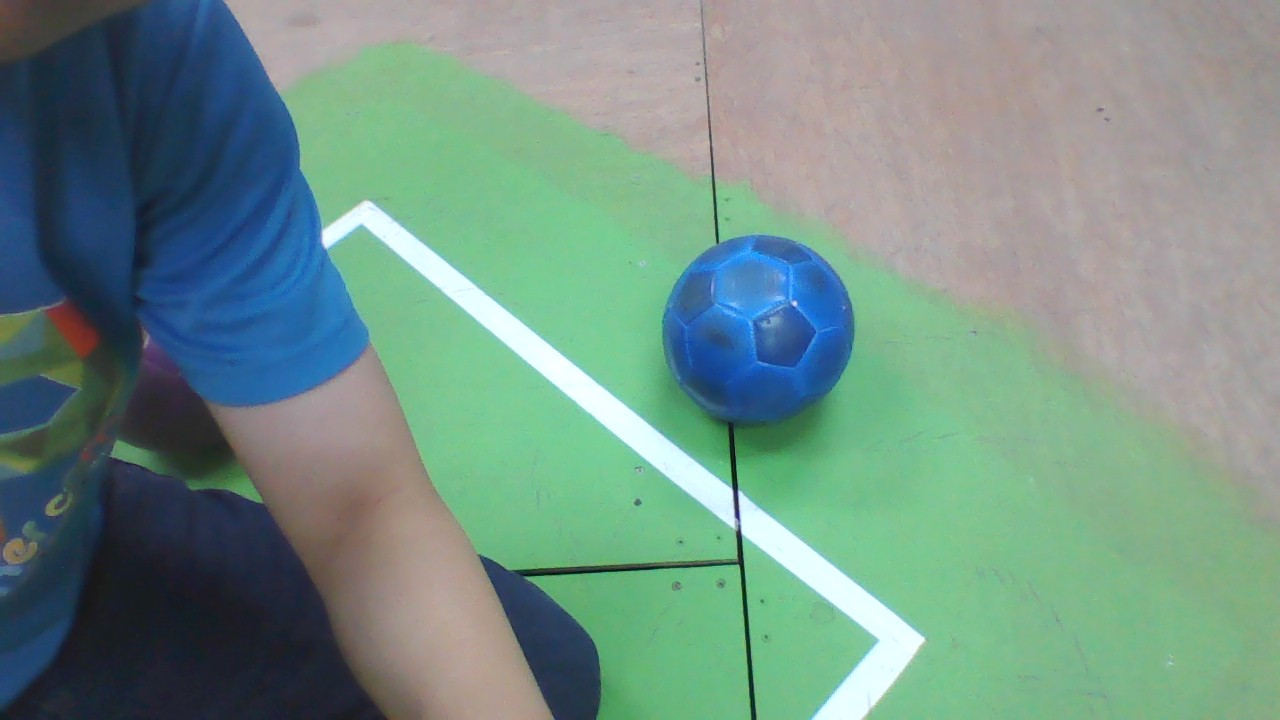Blue: (662, 235, 855, 426)
